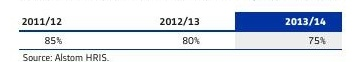table: (0, 0, 357, 62)
